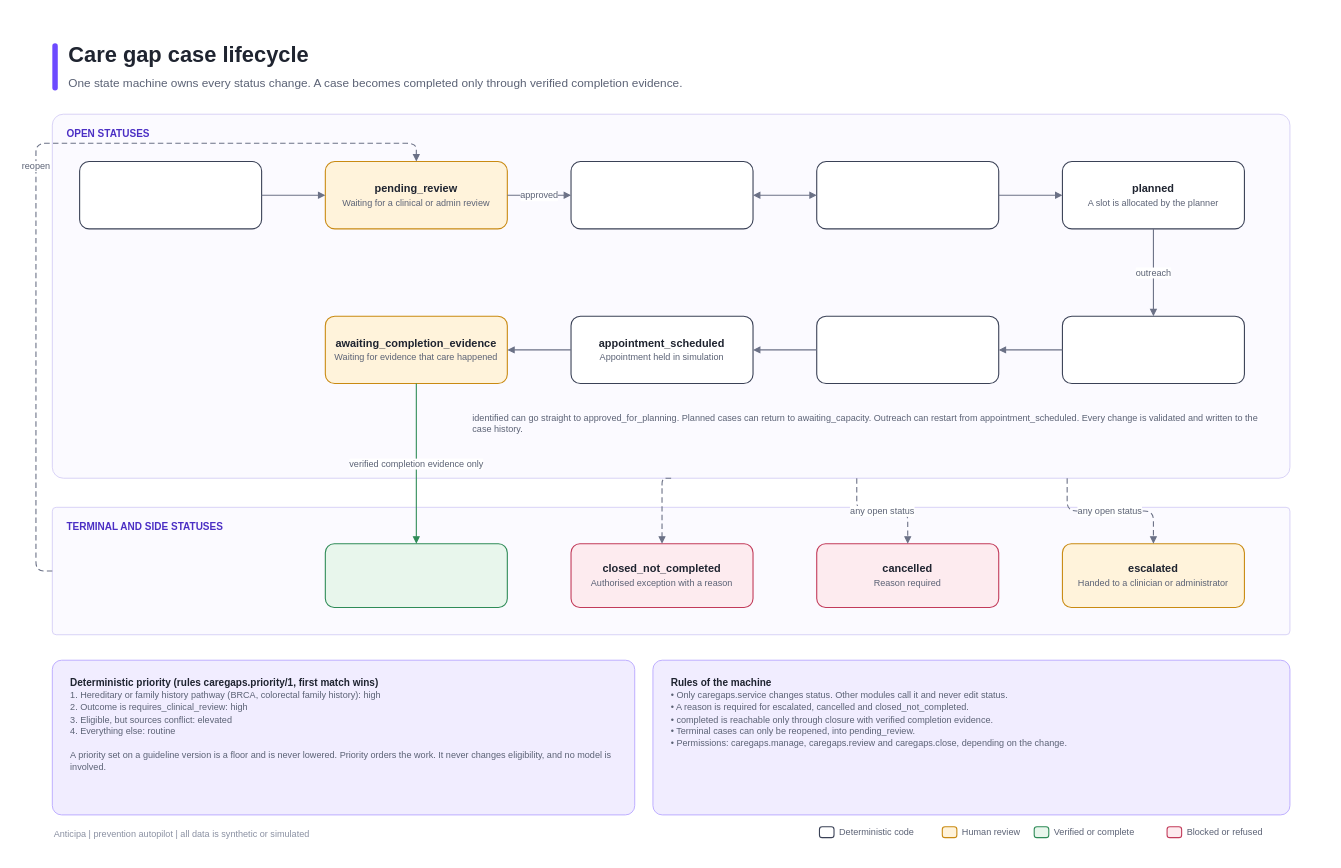
Image size: 1341x868. Some labels were removed from this diagram. Each missing label, with the centre of its shape:
approved_for_planning Cleared for the capacity planner: (x=661, y=195)
awaiting_capacity No slot yet in the horizon: (x=907, y=195)
completed Verified evidence and a different reviewer: (x=415, y=575)
identified Created from an eligible evaluation: (x=170, y=195)
outreach_completed Resident replied or the message was delivered: (x=907, y=349)
outreach_pending Simulated message queued or sent: (x=1153, y=349)
